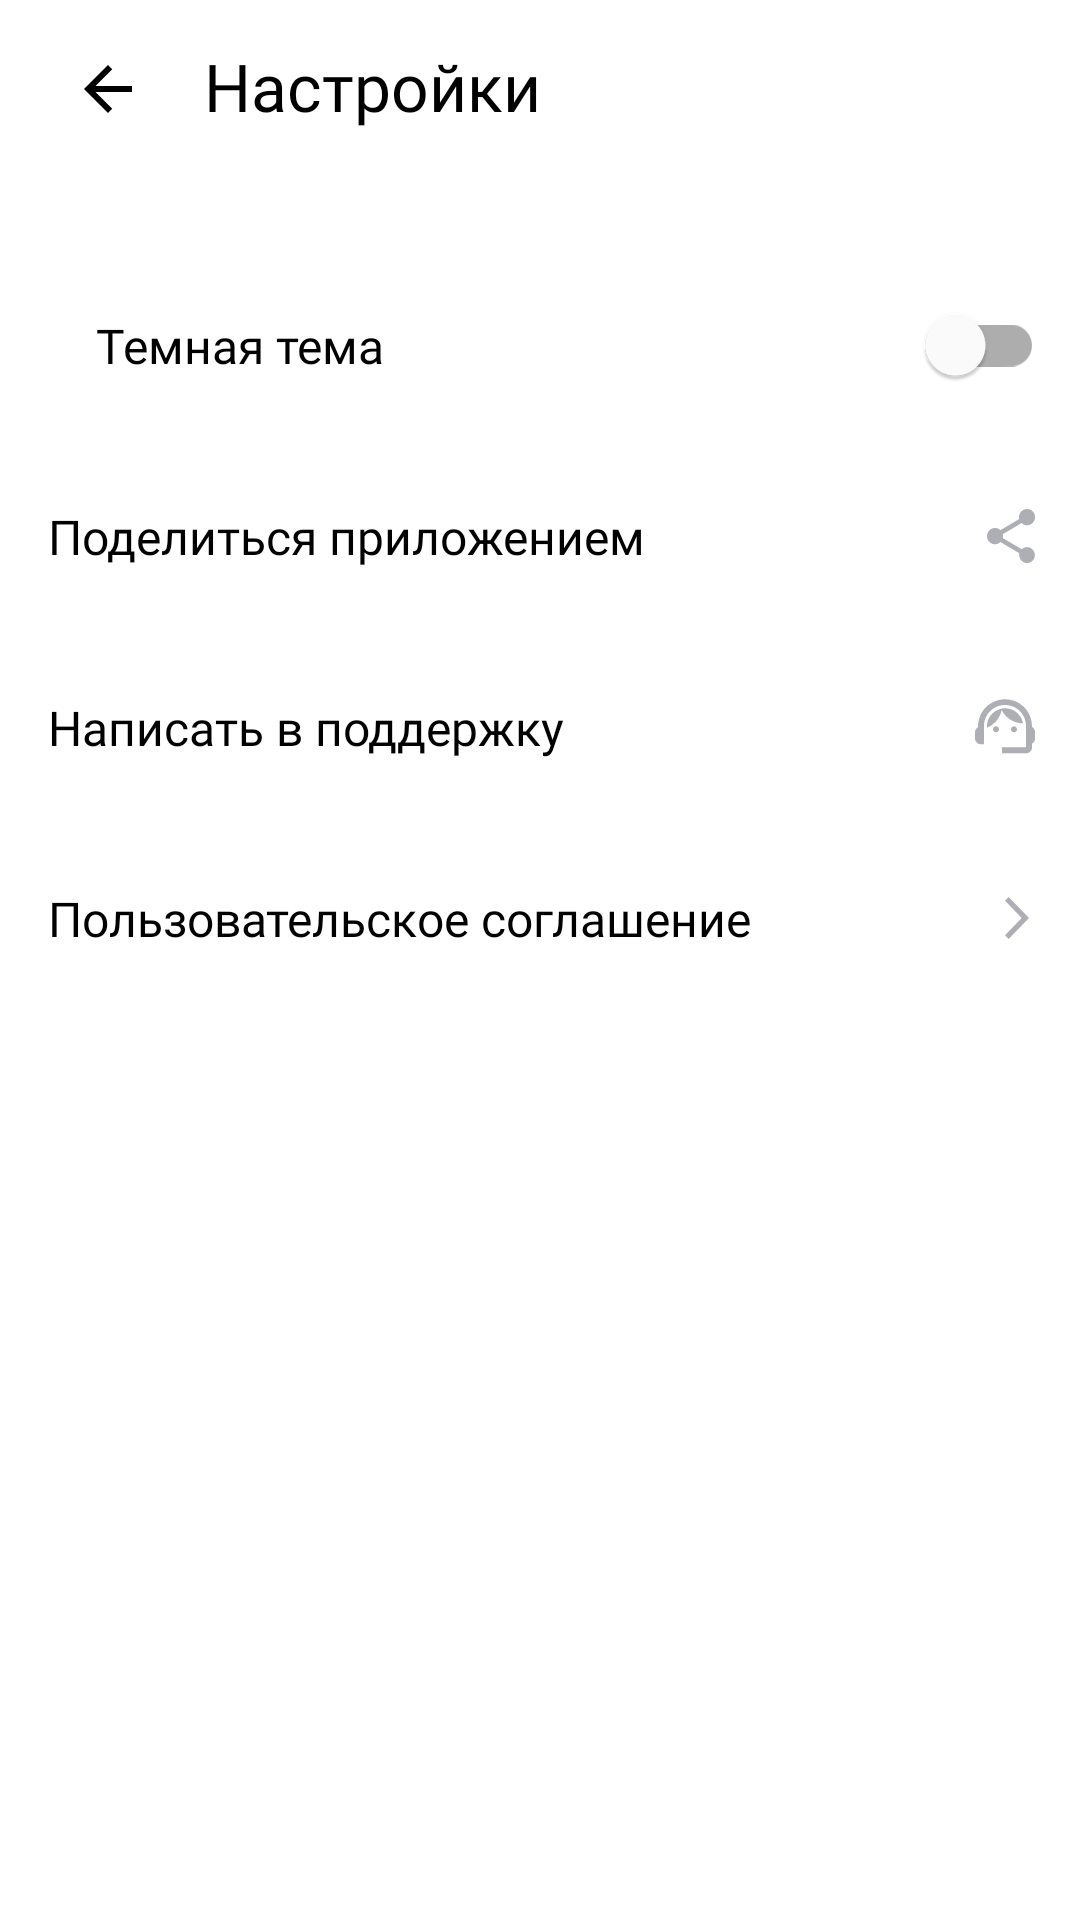

Icons on this 1080×1920 Android screen, each with its box as (x1, y1, x2, y2):
arrow back: (84, 65, 132, 113)
arrow right: (1005, 897, 1029, 939)
share: (987, 509, 1035, 563)
support: (975, 699, 1035, 753)
